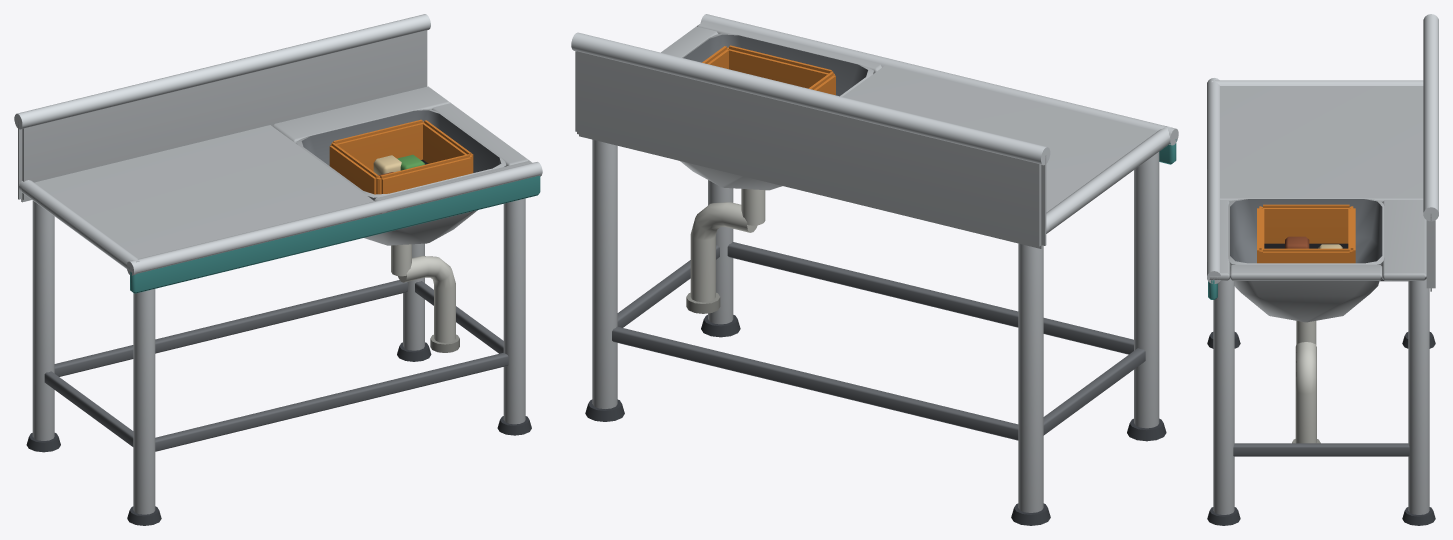
Rendered from SM_DishTable_Soiled_15.glb.
The picture shows the model from 3 angles, left to right: view 1: azimuth 30°, elevation 25°; view 2: azimuth 150°, elevation 25°; view 3: azimuth 270°, elevation 25°; orthographic projection. The views are drawn at different scales.
Visible parts, largest first — view 1: SM_DishTable_Soiled_15; view 2: SM_DishTable_Soiled_15; view 3: SM_DishTable_Soiled_15.
Boxes of the visible parts, left/top/right/bottom form: SM_DishTable_Soiled_15: left=14, top=14, right=542, bottom=525; SM_DishTable_Soiled_15: left=571, top=14, right=1178, bottom=525; SM_DishTable_Soiled_15: left=1207, top=14, right=1438, bottom=525.
Size of the model in its own units: 1.5 by 1.16 by 0.7607.
Materials: 1 (1 with a texture image).
